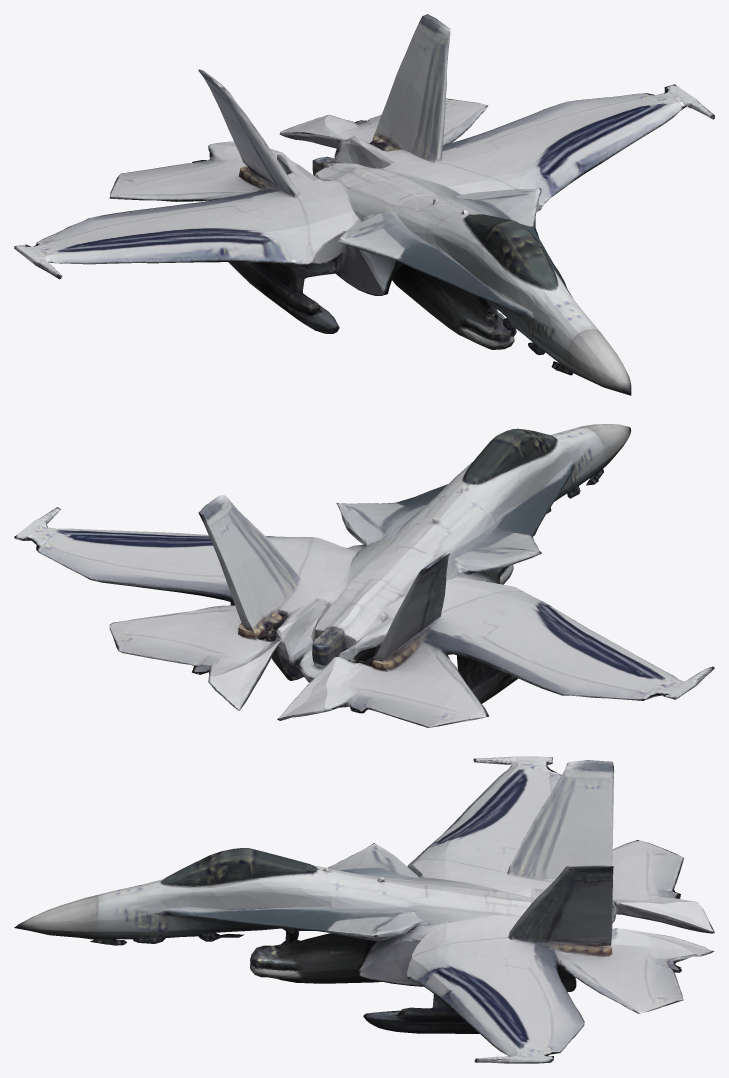
3 renders of one model, top to bottom at view 1: azimuth 30°, elevation 25°; view 2: azimuth 150°, elevation 25°; view 3: azimuth 270°, elevation 25°, orthographic. The views are drawn at different scales.
Visible parts, largest first — view 1: world; view 2: world; view 3: world.
Part boxes in pixels (<box>): world: <box>14,14,714,395</box>; world: <box>14,424,714,727</box>; world: <box>14,756,714,1063</box>.
Bounding box in the file's own units: 1 × 0.2633 × 0.9746.
Materials: 1 (1 with a texture image).
